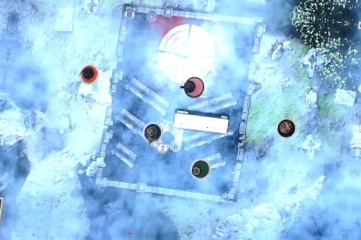black: (273, 116, 299, 142)
blue: (137, 120, 163, 146)
green: (186, 155, 212, 181)
orange: (74, 61, 100, 87)
pink_green: (181, 74, 207, 100)
